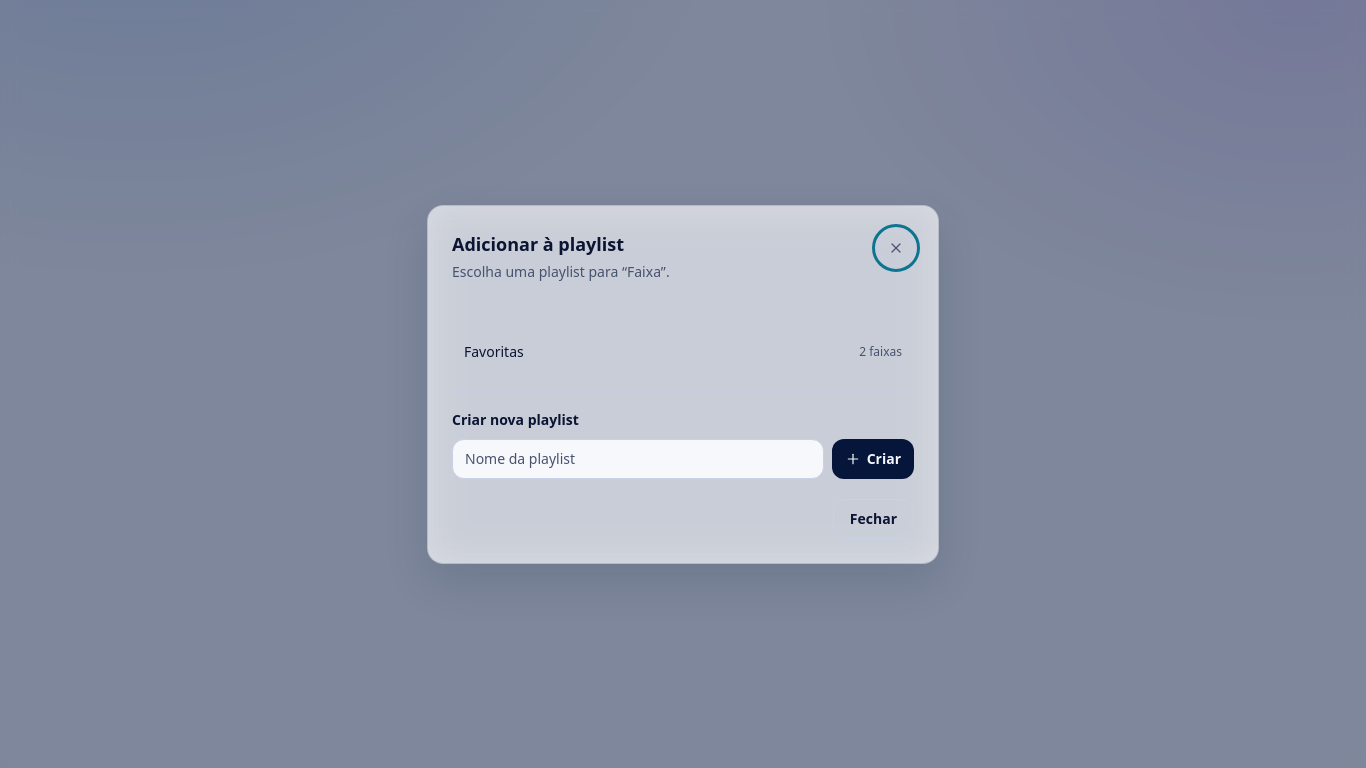
Test case: AddToPlaylistDialog › adiciona a faixa a uma playlist existente
This screenshot has width=1366, height=768.
Click the button "Favoritas 2 faixas": coordinates (494, 351) [452, 330, 914, 374]
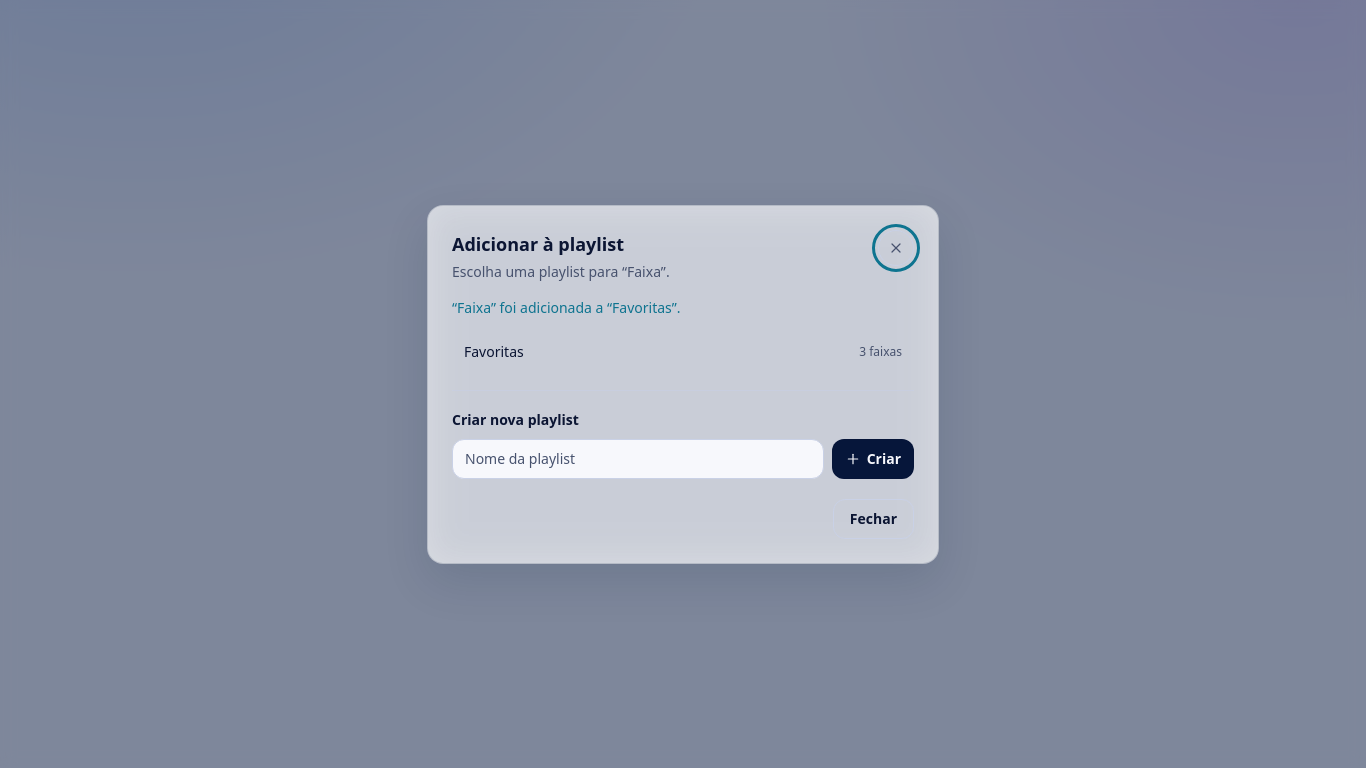
Expected: the text "“Faixa” foi adicionada a “Favoritas”." is shown, [452, 298, 681, 316]
Expected: the text "3 faixas" is shown, [859, 344, 902, 360]
